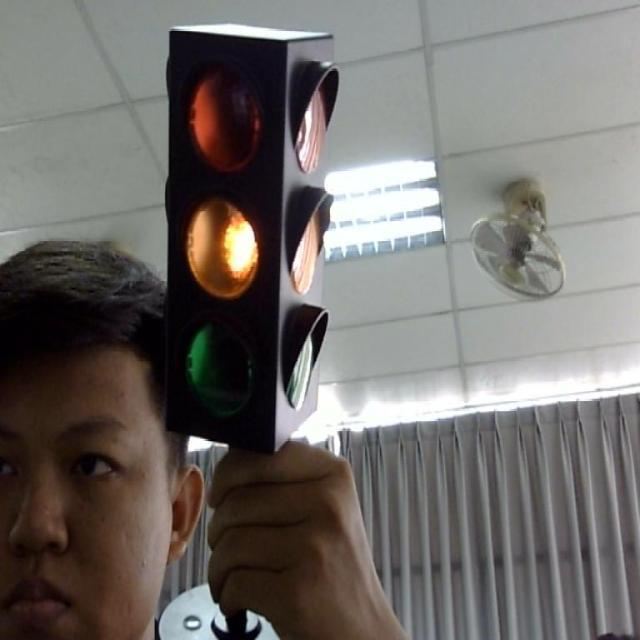yellow_light: (166, 22, 337, 449)
